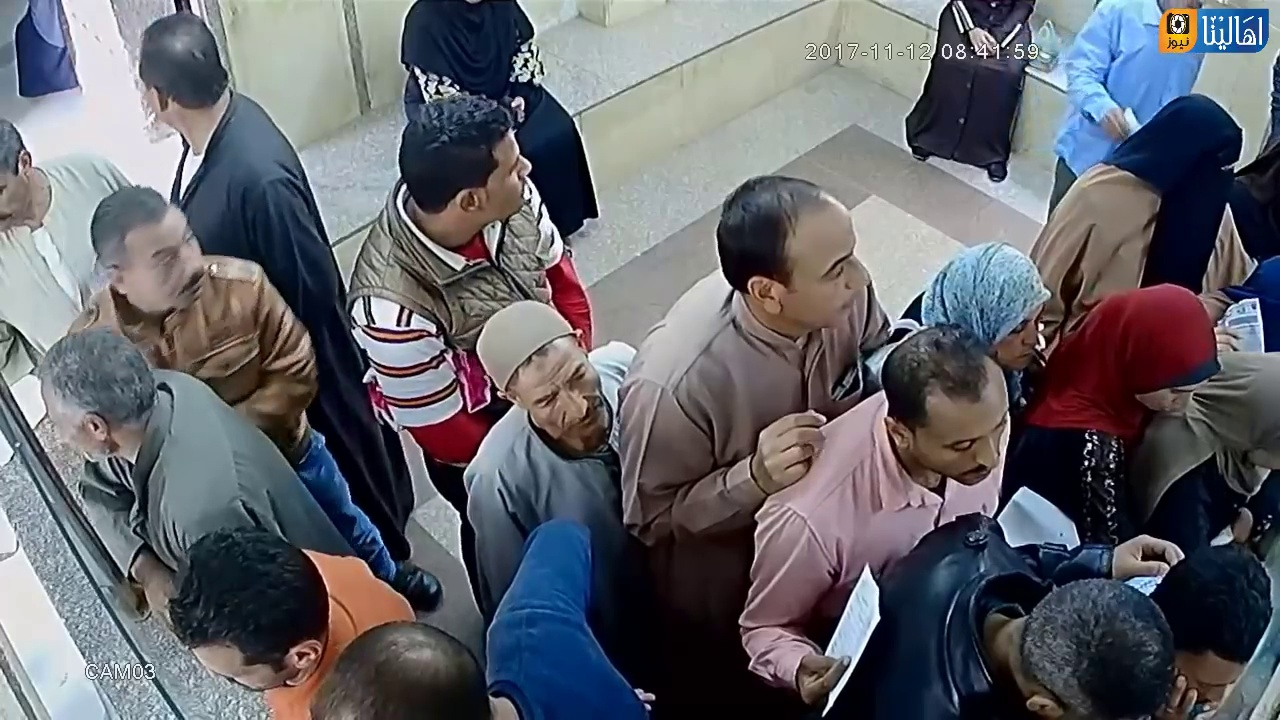face: (503, 350, 610, 444), (786, 222, 867, 326), (913, 402, 1012, 486), (463, 136, 543, 224), (124, 224, 203, 306)
